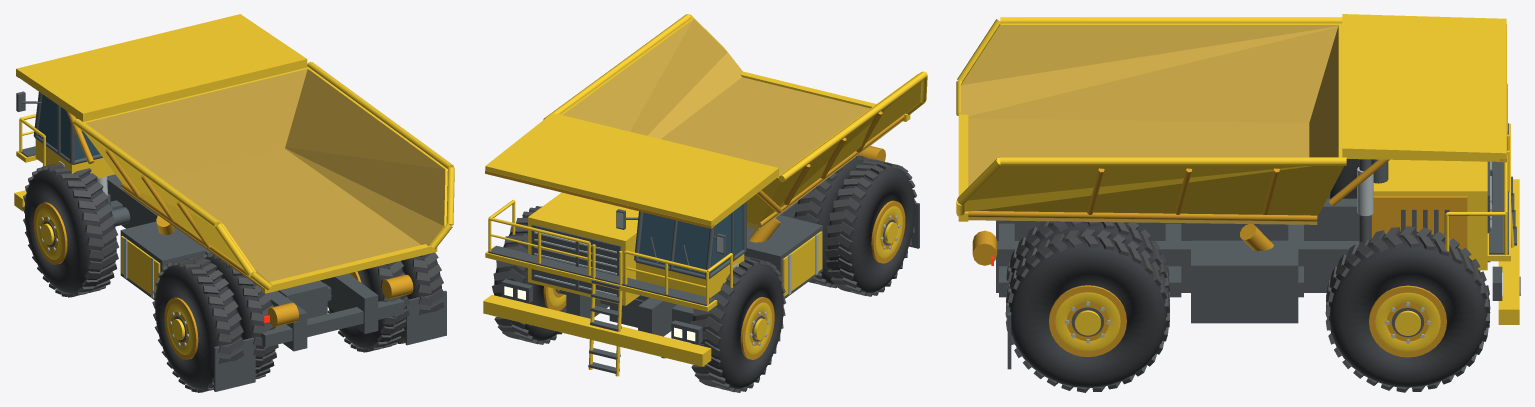
The model's file is truck.glb.
3 views of the same model, side by side, from view 1: azimuth 30°, elevation 25°; view 2: azimuth 150°, elevation 25°; view 3: azimuth 270°, elevation 25° (orthographic). The views are drawn at different scales.
Parts seen in each view (by area): view 1: Yellow rigid mining haul truck; view 2: Yellow rigid mining haul truck; view 3: Yellow rigid mining haul truck.
Part boxes in pixels (x1,y1,x2,y2): Yellow rigid mining haul truck: (14,14,454,392); Yellow rigid mining haul truck: (483,14,927,392); Yellow rigid mining haul truck: (956,14,1520,392).
Size of the model in its own units: 7.9 by 6.15 by 12.88.
